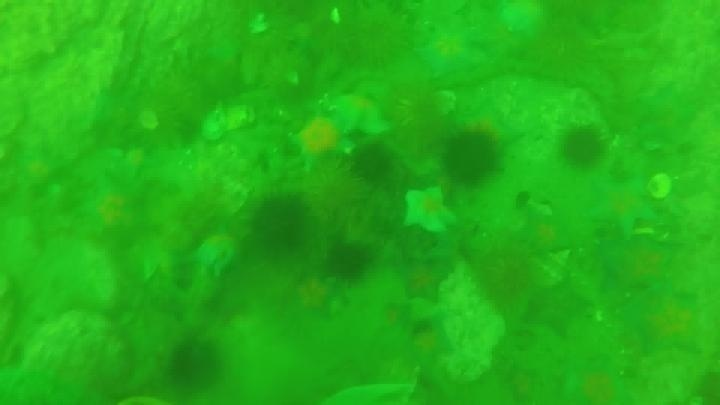echinus: (315, 4, 414, 72), (520, 19, 598, 80), (379, 80, 449, 146), (474, 240, 537, 306), (250, 193, 310, 252), (440, 130, 500, 186), (166, 336, 224, 391), (559, 124, 607, 170), (324, 240, 372, 282), (349, 143, 395, 186), (511, 189, 534, 212)
starfish: (617, 287, 705, 359), (75, 173, 159, 247), (600, 234, 685, 294), (587, 176, 660, 238), (633, 85, 699, 149), (523, 277, 592, 338), (287, 113, 348, 173), (457, 102, 524, 154), (414, 27, 482, 78), (566, 361, 640, 405), (327, 90, 392, 137), (401, 188, 458, 238), (12, 145, 67, 196), (392, 258, 449, 305), (289, 274, 343, 322), (404, 316, 453, 368), (520, 216, 572, 259), (498, 1, 549, 41)
